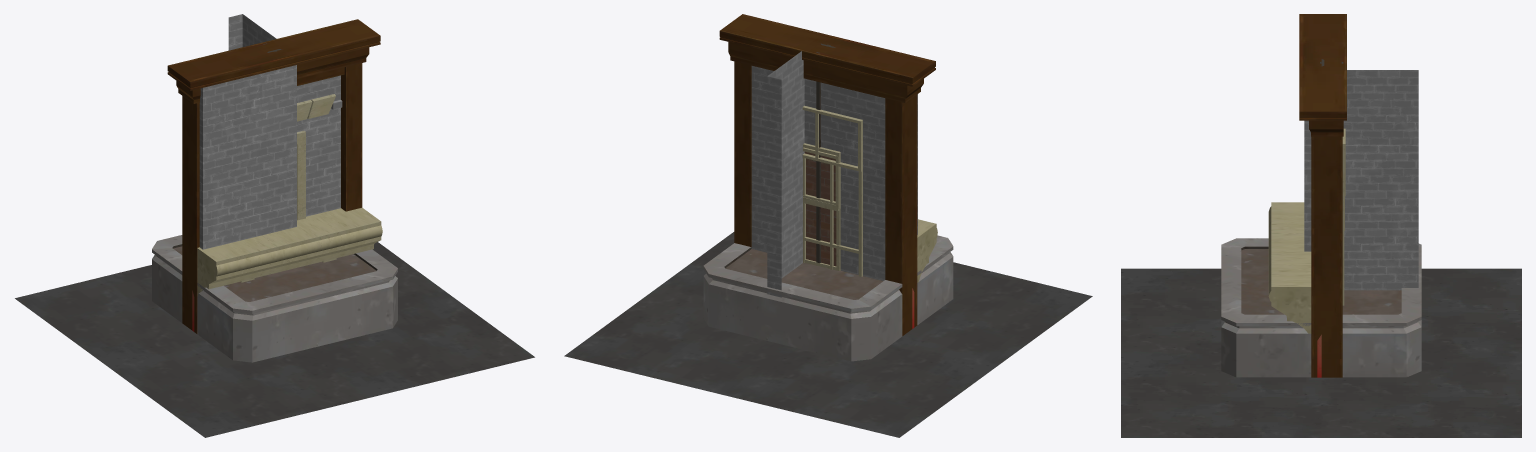
Rendered from city.glb.
3 renders of one model, left to right at view 1: azimuth 30°, elevation 25°; view 2: azimuth 150°, elevation 25°; view 3: azimuth 270°, elevation 25°, orthographic. The views are drawn at different scales.
Parts seen in each view (by area): view 1: Roof_4x4, Prop_Planter_Single, Brick_CornerColumn_Center, DoorFrame_Wooden, Cornice_Trim_Center, Brick_Window_Trim_Single, Brick_Window_Square_Single; view 2: Roof_4x4, DoorFrame_Wooden, Prop_Planter_Single, Brick_Window_Trim_Single, Brick_CornerColumn_Center, Brick_Window_Trim, Metal_FirstFloor_Wall, Brick_Window_Square_Single, Cornice_Trim_Center, Metal_FirstFloor_Window; view 3: Roof_4x4, Brick_CornerColumn_Center, Prop_Planter_Single, DoorFrame_Wooden, Cornice_Trim_Center, Brick_Window_Trim.
Part boxes in pixels (box(x1,y1,x2,y2)): Roof_4x4: box(15, 242, 534, 437); Prop_Planter_Single: box(152, 235, 397, 362); Brick_CornerColumn_Center: box(199, 14, 296, 290); DoorFrame_Wooden: box(167, 19, 380, 333); Cornice_Trim_Center: box(197, 207, 382, 296); Brick_Window_Trim_Single: box(297, 75, 342, 211); Brick_Window_Square_Single: box(297, 115, 325, 220); Roof_4x4: box(564, 232, 1092, 437); DoorFrame_Wooden: box(719, 14, 935, 335); Prop_Planter_Single: box(703, 235, 953, 361); Brick_Window_Trim_Single: box(751, 66, 885, 280); Brick_CornerColumn_Center: box(767, 51, 917, 297); Brick_Window_Trim: box(802, 105, 862, 276); Metal_FirstFloor_Wall: box(804, 43, 914, 328); Brick_Window_Square_Single: box(803, 147, 839, 270); Cornice_Trim_Center: box(917, 219, 937, 282); Metal_FirstFloor_Window: box(816, 44, 830, 263); Roof_4x4: box(1121, 268, 1521, 437); Brick_CornerColumn_Center: box(1304, 70, 1418, 290); Prop_Planter_Single: box(1221, 238, 1421, 377); DoorFrame_Wooden: box(1299, 14, 1346, 377); Cornice_Trim_Center: box(1268, 202, 1311, 333); Brick_Window_Trim: box(1342, 128, 1345, 305).
Size of the model in its own units: 4 by 3.2 by 4.
Materials: 8 (6 with a texture image).
